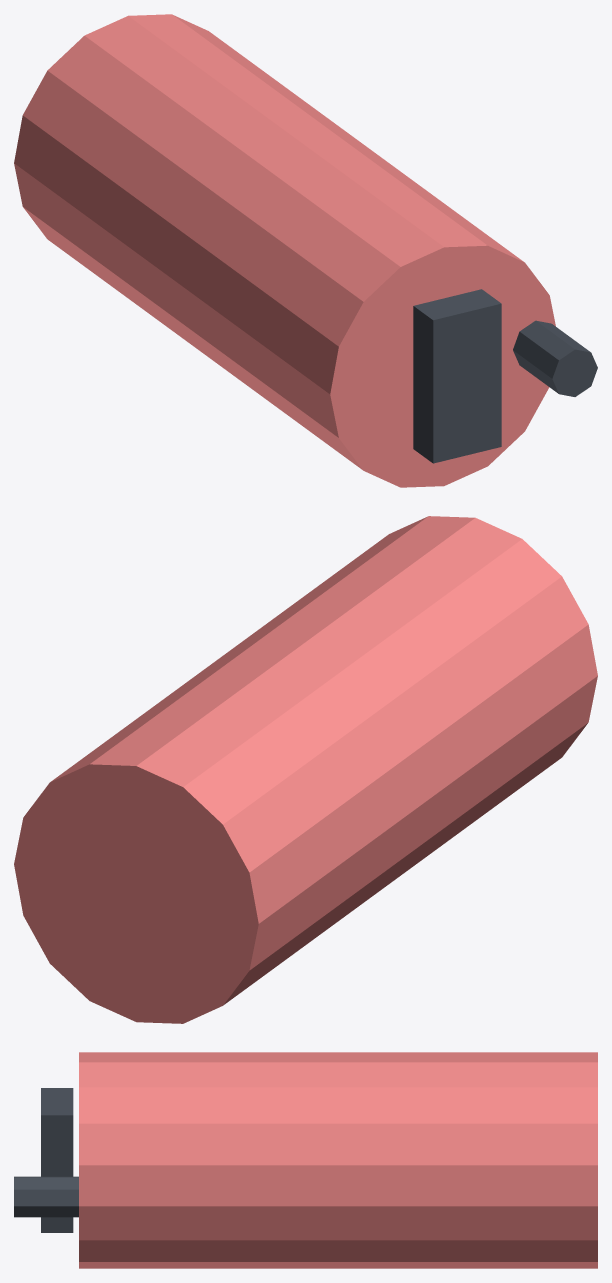
File: fire_extinguisher.glb
The picture shows the model from 3 angles, top to bottom: view 1: azimuth 30°, elevation 25°; view 2: azimuth 150°, elevation 25°; view 3: azimuth 270°, elevation 25°; orthographic projection. The views are drawn at different scales.
Visible parts, largest first — view 1: body_0, handle_1, hose_2; view 2: body_0; view 3: body_0, handle_1, hose_2.
Part boxes in pixels (left/top/right/bottom): body_0: left=14, top=14, right=555, bottom=487; handle_1: left=413, top=289, right=501, bottom=463; hose_2: left=513, top=320, right=597, bottom=396; body_0: left=14, top=516, right=597, bottom=1023; body_0: left=79, top=1052, right=597, bottom=1268; handle_1: left=41, top=1088, right=73, bottom=1232; hose_2: left=14, top=1176, right=78, bottom=1217.
Size of the model in its own units: 0.2 by 0.2 by 0.54.
